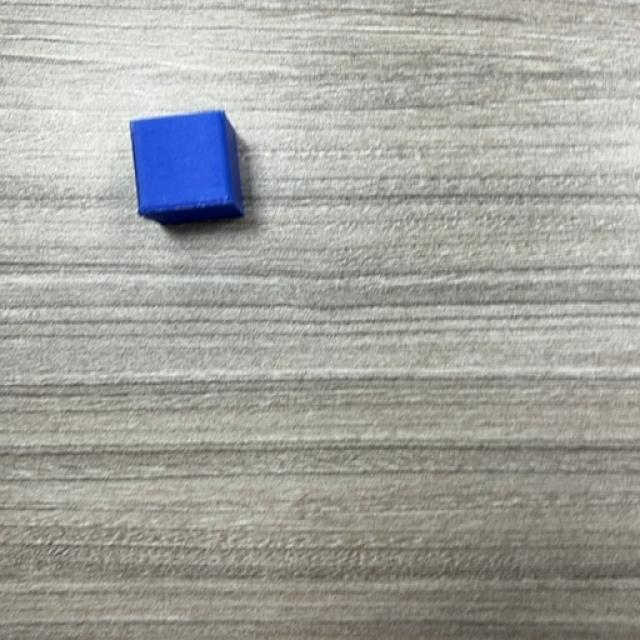Azul: (129, 110, 248, 228)
